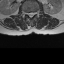CCS_normal: (30, 9, 32, 20)
LFS_normal: (34, 10, 36, 16)
LLS_normal: (32, 10, 34, 17)
RFS_normal: (25, 9, 27, 16)
RLS_normal: (27, 10, 30, 18)
